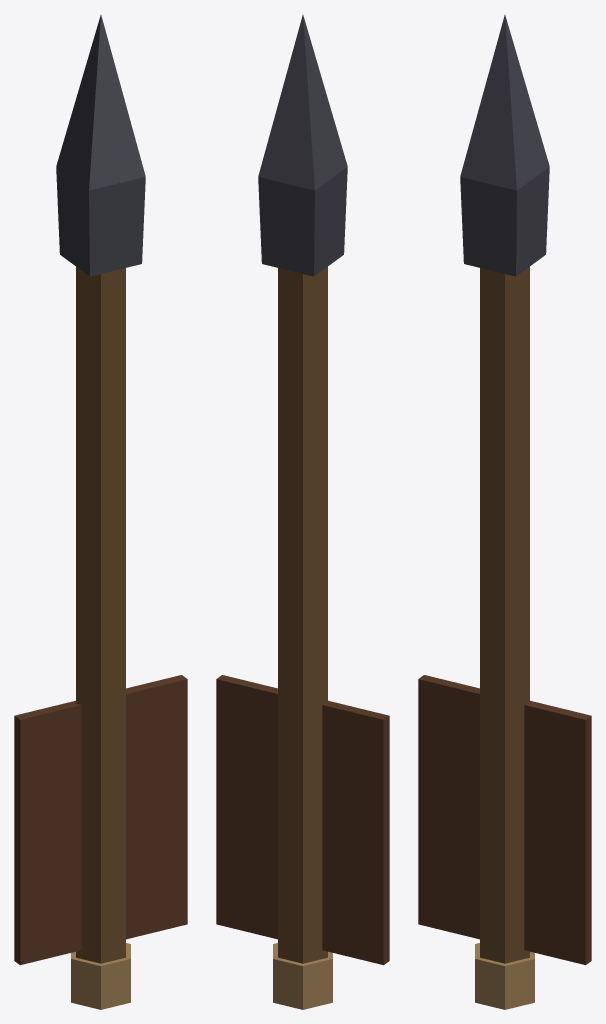
The model's file is weapon_bolt.glb.
3 views of the same model, side by side, from view 1: azimuth 30°, elevation 25°; view 2: azimuth 150°, elevation 25°; view 3: azimuth 330°, elevation 25° (orthographic).
Visible parts, largest first — view 1: weapon_bolt; view 2: weapon_bolt; view 3: weapon_bolt.
Part boxes in pixels (x1,y1,x2,y2): weapon_bolt: (14, 15, 187, 1009); weapon_bolt: (216, 15, 389, 1009); weapon_bolt: (418, 15, 591, 1009).
Bounding box in the file's own units: 0.1 × 0.56 × 0.0339.
